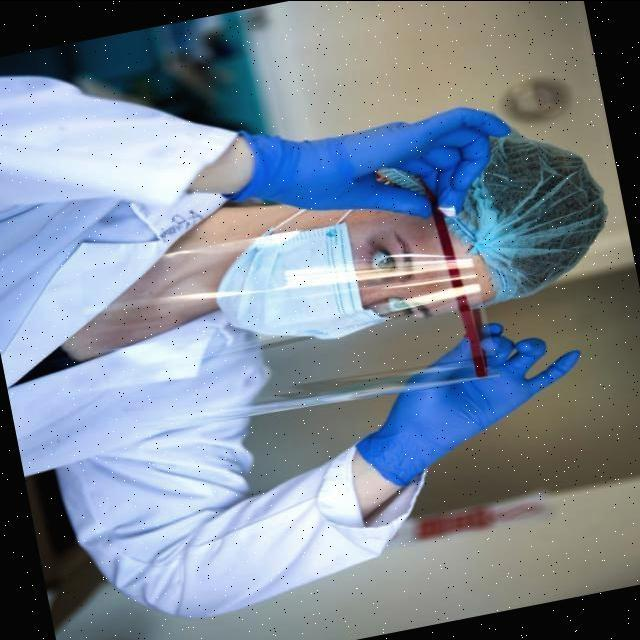apron: (362, 297, 596, 483), (226, 93, 514, 219)
